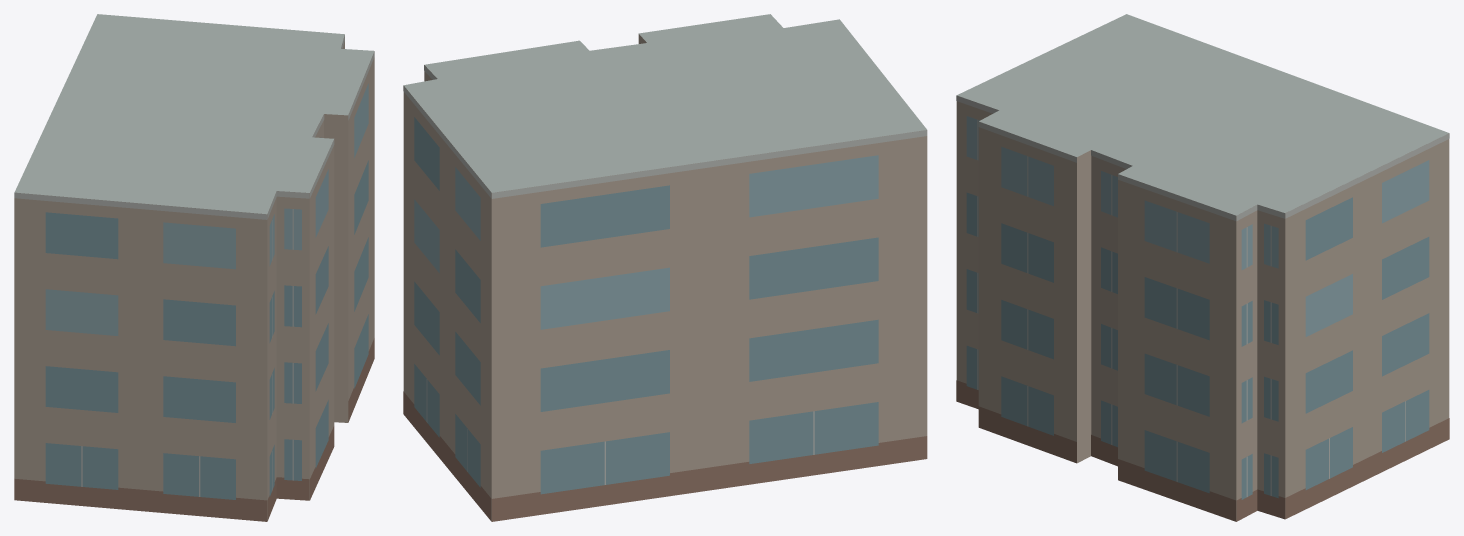
The model's file is survey-upis-33018264.glb.
3 renders of one model, left to right at view 1: azimuth 30°, elevation 25°; view 2: azimuth 150°, elevation 25°; view 3: azimuth 270°, elevation 25°, orthographic. The views are drawn at different scales.
Visible parts, largest first — view 1: survey-upis-33018264.tmp; view 2: survey-upis-33018264.tmp; view 3: survey-upis-33018264.tmp.
Part boxes in pixels (x1=…): survey-upis-33018264.tmp: x1=14, y1=14, x2=374, y2=521; survey-upis-33018264.tmp: x1=403, y1=14, x2=927, y2=521; survey-upis-33018264.tmp: x1=956, y1=14, x2=1449, y2=521.
Size of the model in its own units: 18.66 by 13.2 by 19.27.
